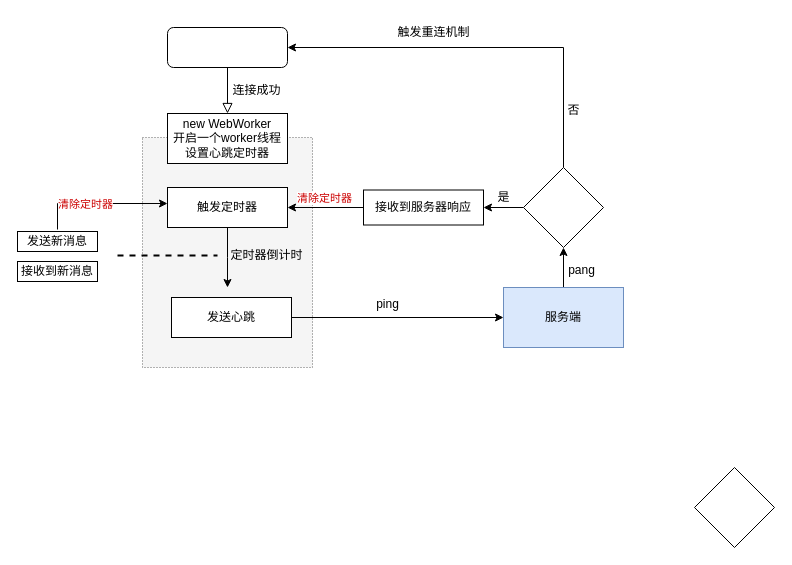
The diagram is 792 pixels wide and 565 high, and some of its shapes have lost their labels. Here are the shapes that lost their labels. From the top down, the centre of each, then its label:
At (x=227, y=47): "websocket连接".
At (x=563, y=207): "一定响应时长内是否收到心跳响应(例如12s内)".
At (x=734, y=507): "倒计时结束".
